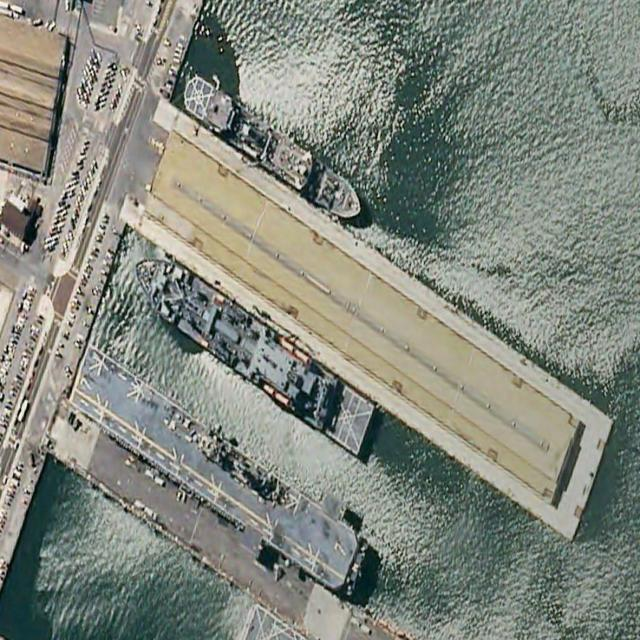Commander: (124, 239, 376, 457)
Landing: (64, 329, 379, 606)
Other Warship: (177, 69, 367, 228)
